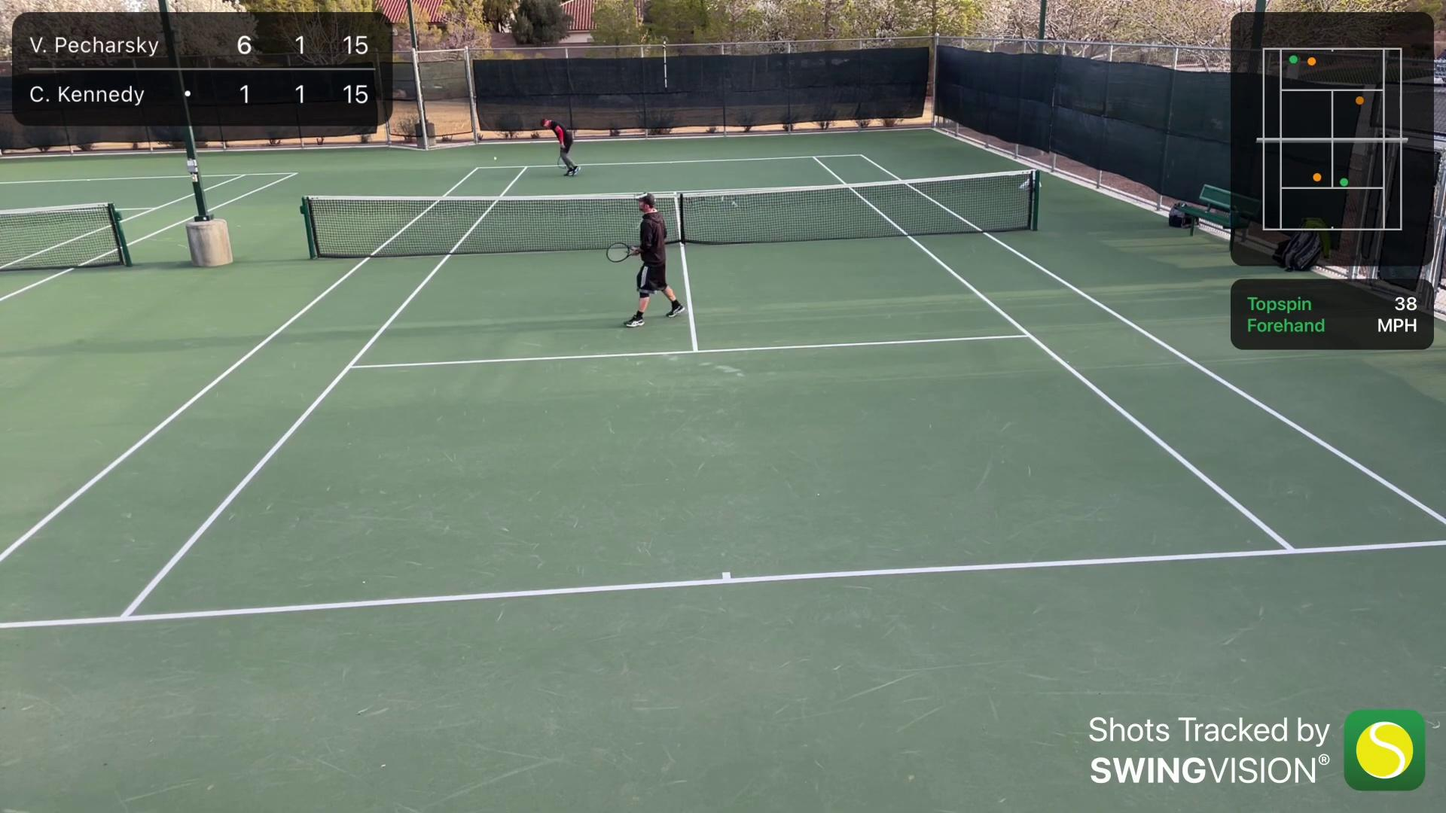ball: (491, 155, 498, 162)
